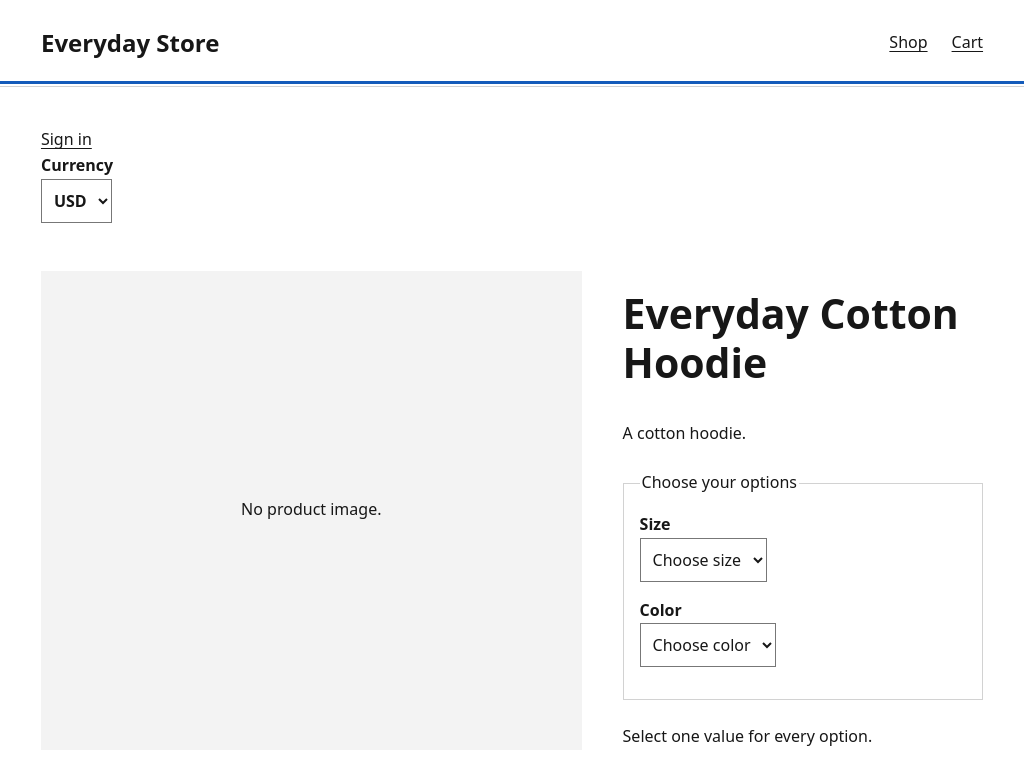
Test: storefront composition › keeps an unavailable option combination distinct from out of stock
Select "Large" in the dropdown labelled "Size": point(703, 560) [640,538,767,582]
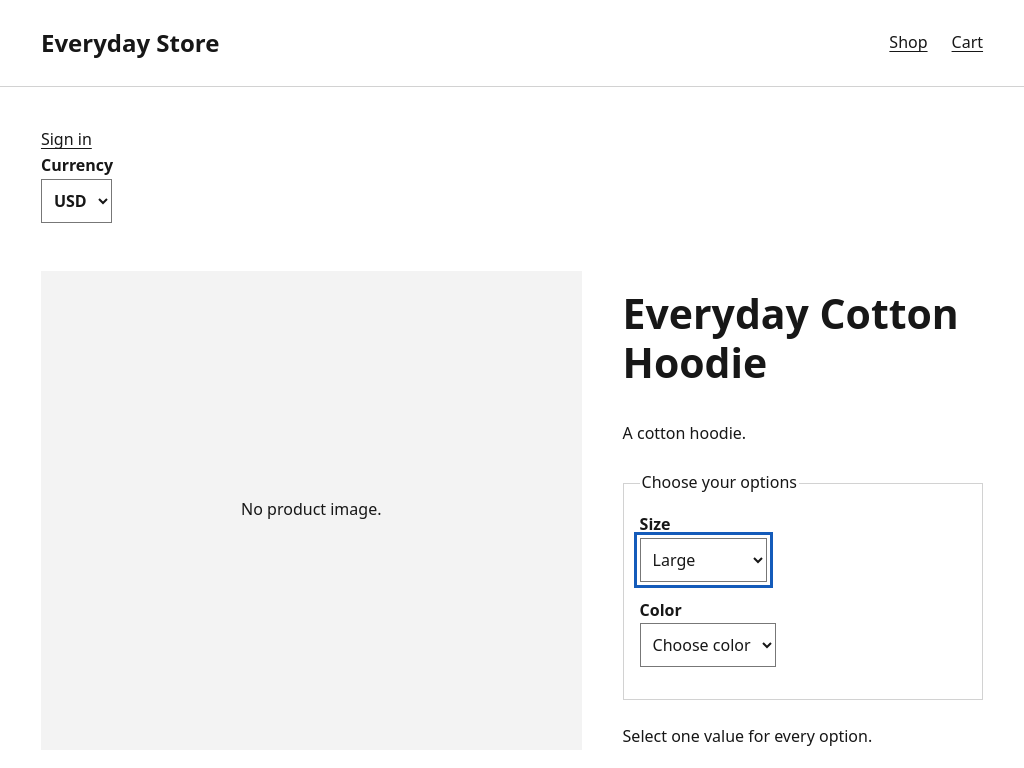
Select "Black" in the dropdown labelled "Color": point(708, 645) [640,623,776,667]
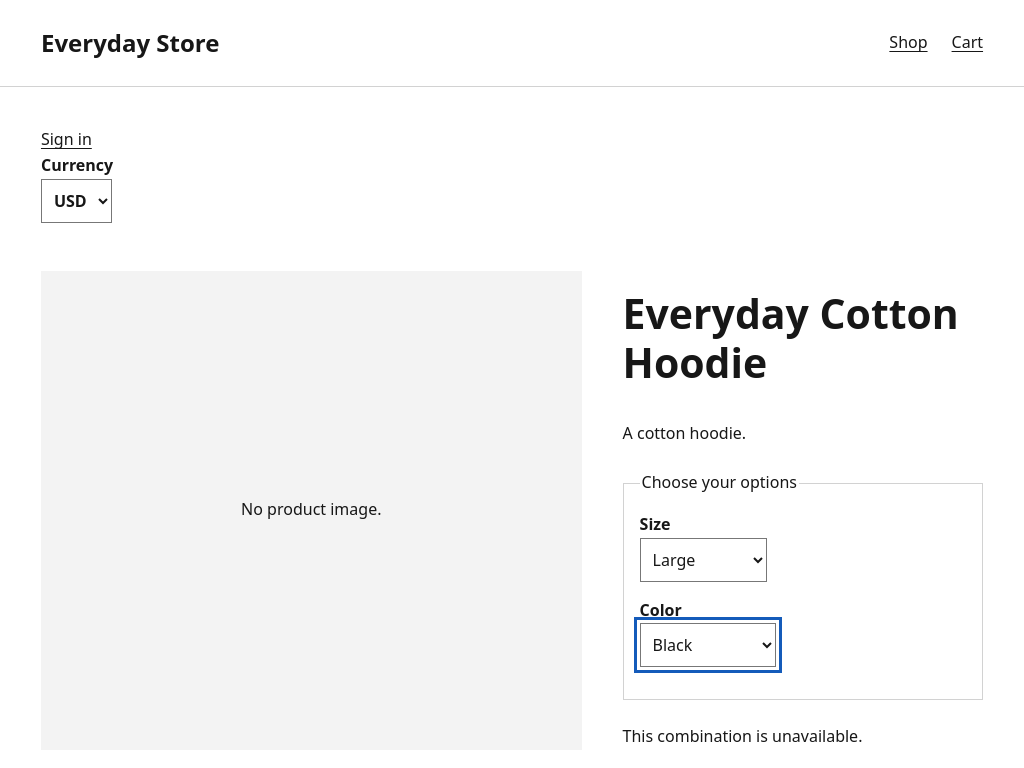
Expected: the text "This combination is unavailable." is shown, [623,725,862,747]
